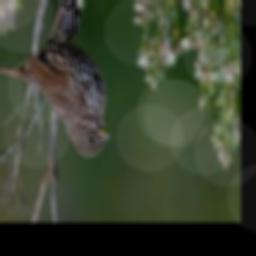Sparrow: (0, 0, 110, 158)
